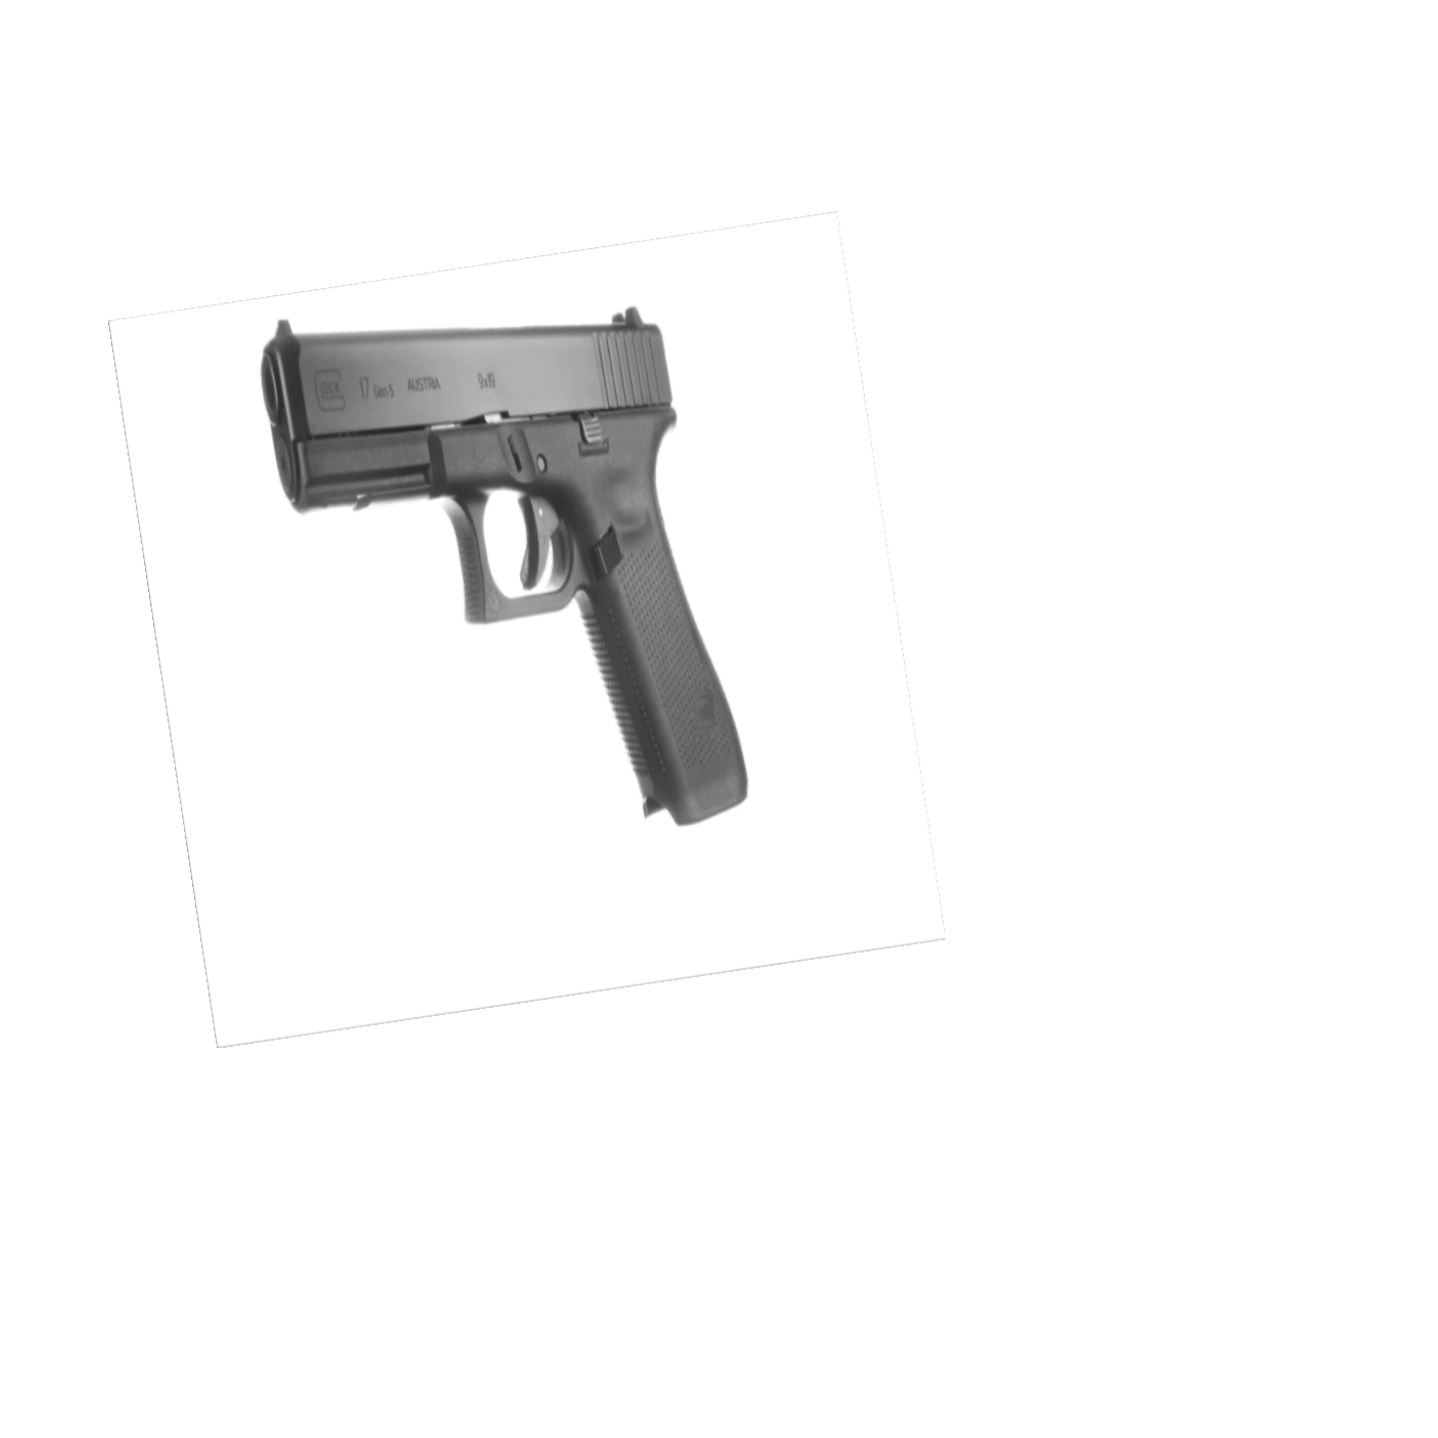gun: (265, 306, 753, 828)
